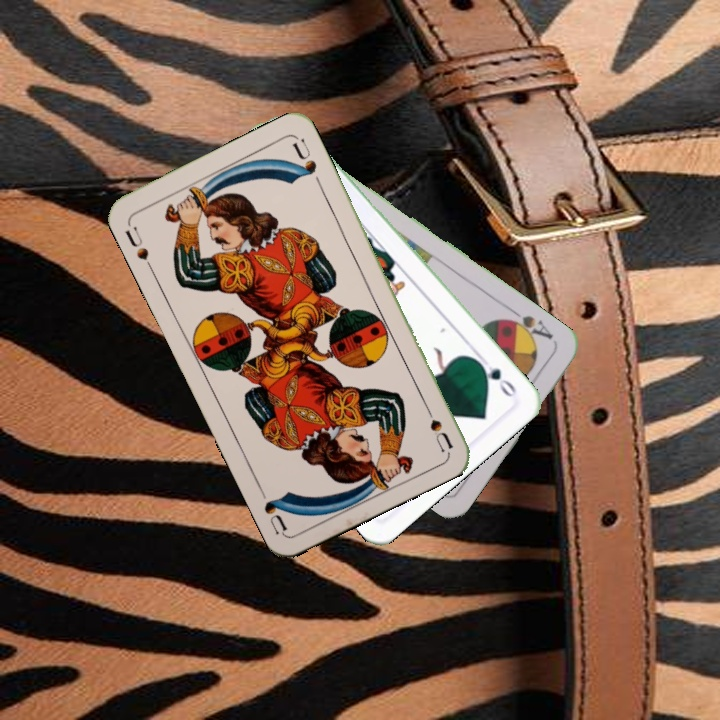GO: (472, 351, 519, 401)
SA: (500, 305, 556, 345)
SU: (419, 397, 457, 454), (121, 222, 156, 274)
